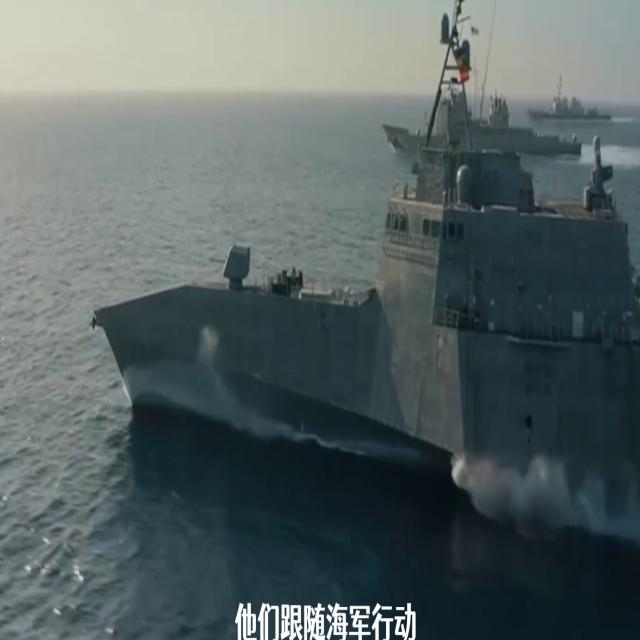navalvessels: (88, 74, 640, 526), (386, 74, 573, 168), (532, 73, 608, 128)
